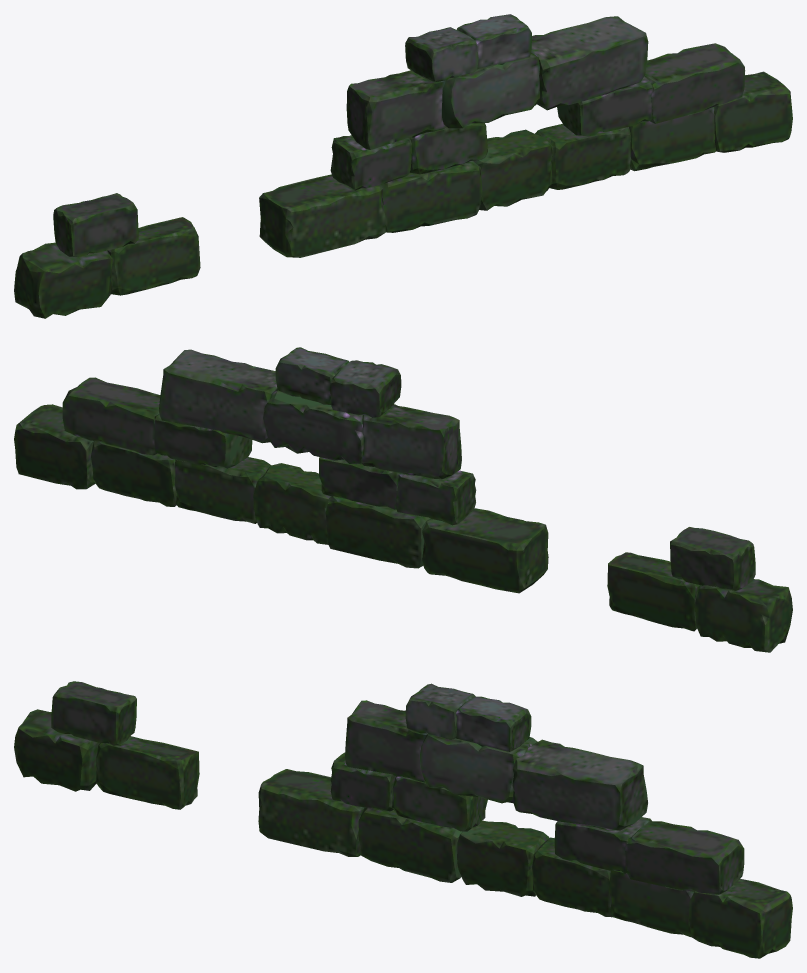
Rendered from StoneFence1.fbx.
3 views of the same model, one above another, from view 1: azimuth 30°, elevation 25°; view 2: azimuth 150°, elevation 25°; view 3: azimuth 330°, elevation 25° (orthographic).
Parts seen in each view (by area): view 1: StoneFence1_LOD0; view 2: StoneFence1_LOD0; view 3: StoneFence1_LOD0.
Boxes of the visible parts, box(x1,y1,x2,y2) form: StoneFence1_LOD0: box(14, 14, 792, 318); StoneFence1_LOD0: box(14, 347, 792, 652); StoneFence1_LOD0: box(14, 681, 792, 958).
Size of what is drawn, in the model's own units: 2.66 by 0.2019 by 0.5908.
